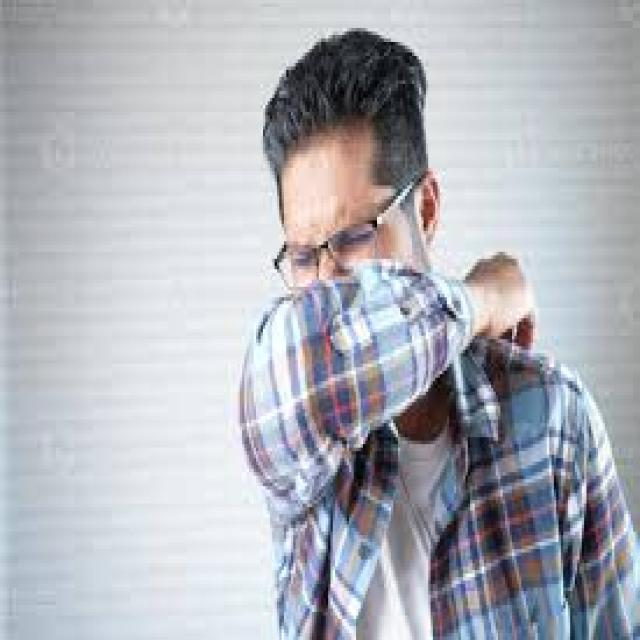7_mano_rostro: (287, 243, 458, 383)
